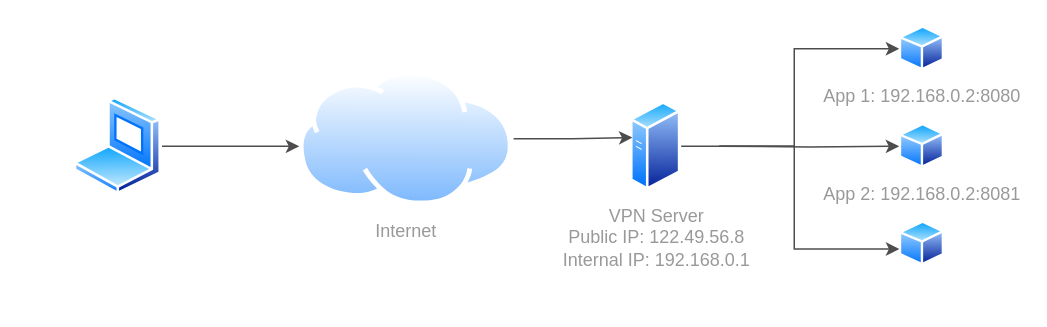
Image size: 1047x327. Some labels were removed from this diagram. Here are the shapes that lost their labels. From the top down, the centre of each, then its label:
At [117,145]: "VPN Client Public IP: 140.56.72.1 VPN IP: 192.168.0.128".
At [921,243]: "App 3: 192.168.0.3:3000".
